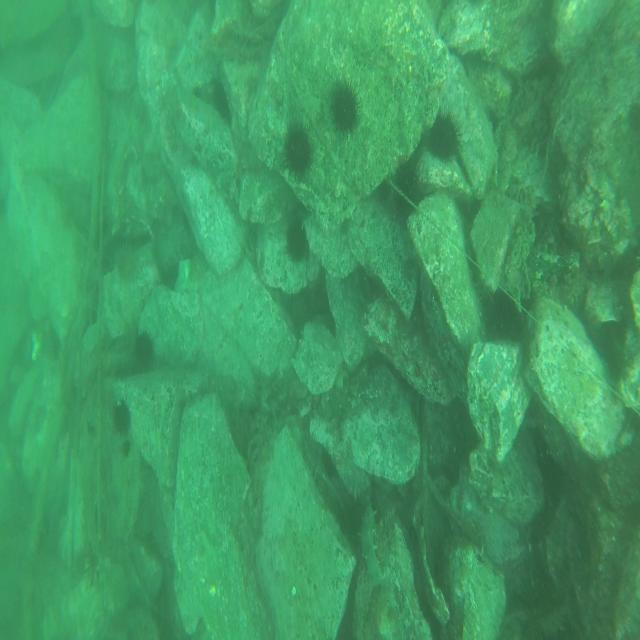echinus: (276, 118, 318, 181), (328, 80, 364, 142), (427, 106, 462, 165), (282, 208, 312, 267), (129, 330, 156, 372), (110, 398, 134, 436)
holothurian: (106, 114, 148, 242), (356, 501, 385, 588), (152, 177, 179, 230)
